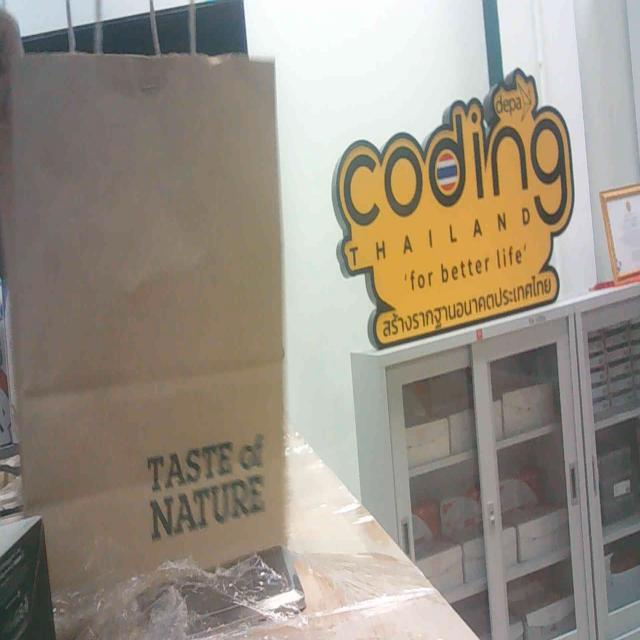bag: (4, 29, 304, 634)
